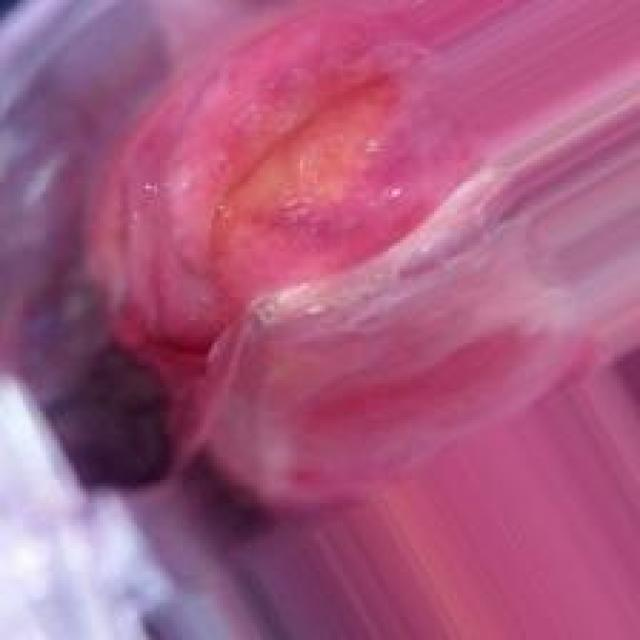type-1: (77, 26, 640, 508)
